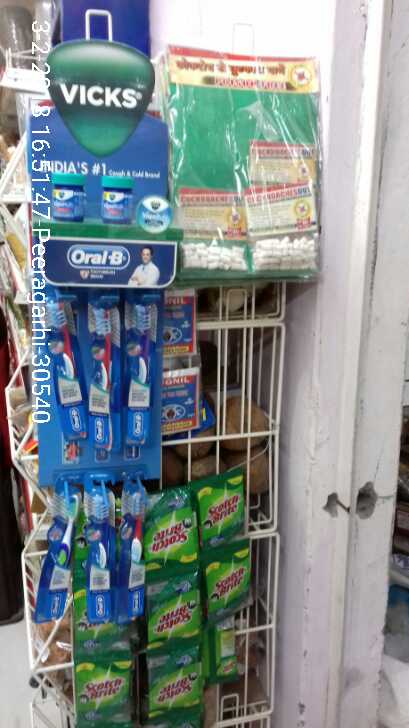pharmacy: (120, 288, 160, 448), (43, 294, 88, 435), (37, 470, 78, 623), (83, 294, 120, 455), (84, 470, 116, 620), (118, 470, 146, 617), (100, 173, 137, 227), (50, 172, 88, 223)
